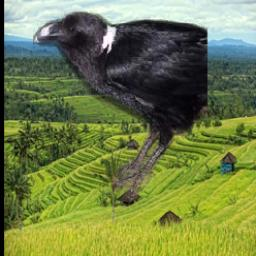Crow: (34, 11, 209, 200)
